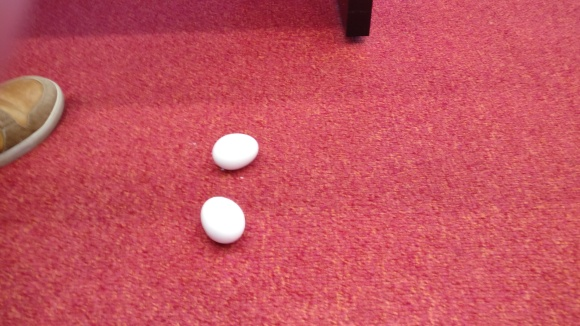egg: (199, 195, 246, 246), (211, 131, 260, 172)
